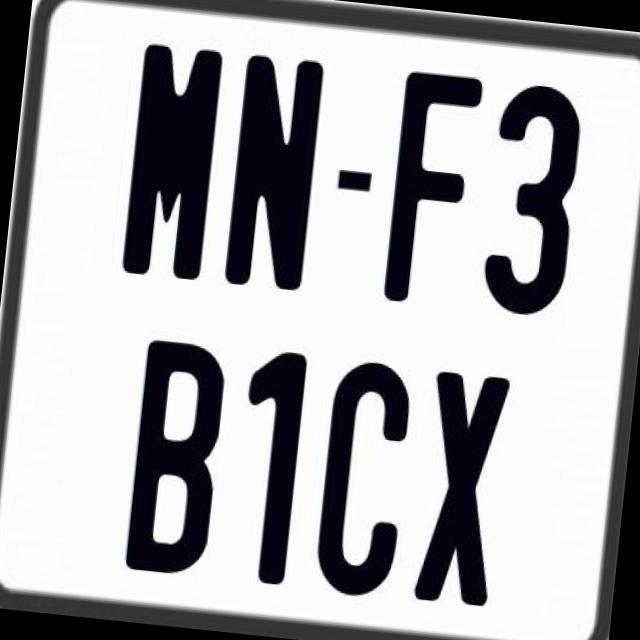1: (225, 345, 308, 584)
3: (479, 82, 590, 328)
B: (124, 338, 234, 580)
C: (308, 354, 415, 604)
F: (380, 68, 485, 314)
M: (122, 42, 230, 281)
N: (220, 50, 330, 293)
X: (410, 368, 513, 614)
